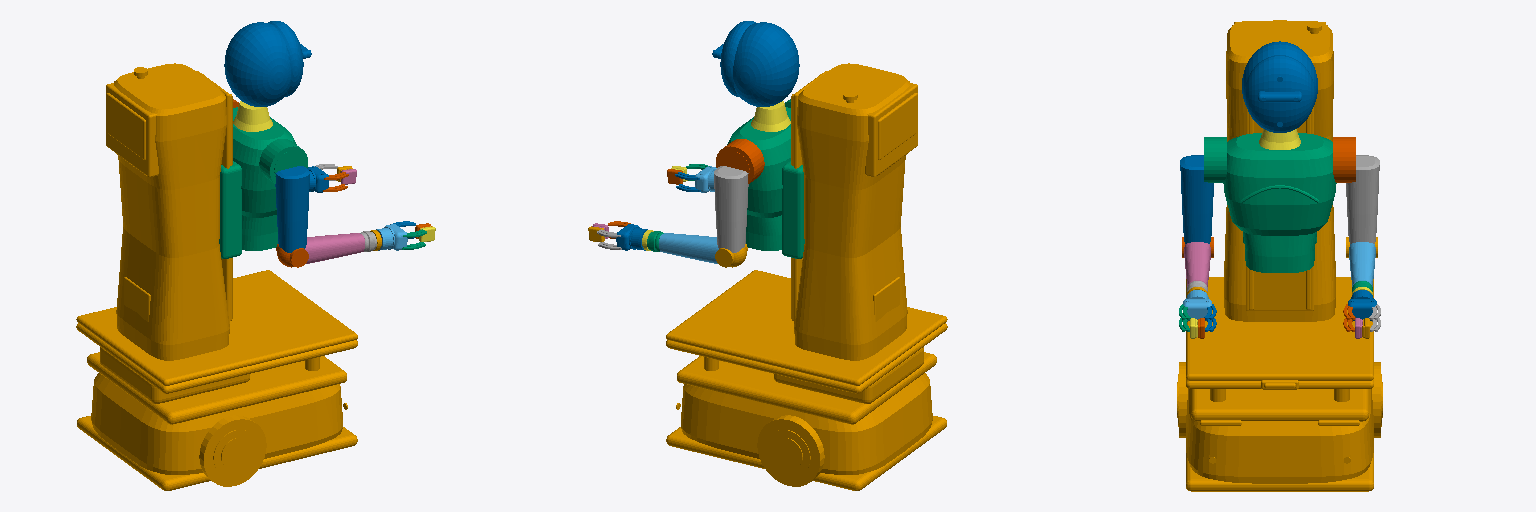
The robot description file, URDF, robot "agibot_g1_omnipicker_independent_visual_study":
<?xml version="1.0"?>
<robot name="agibot_g1_omnipicker_independent_visual_study">
<link name="base_link"><visual ><geometry ><mesh filename="../meshes/base_link.obj"/></geometry></visual><collision ><origin xyz="0 0 0.15" rpy="0 0 0"/><geometry ><box size="0.65 0.52 0.26"/></geometry></collision><collision ><origin xyz="-0.16 0 0.775" rpy="0 0 0"/><geometry ><box size="0.3 0.31 0.8"/></geometry></collision><collision ><origin xyz="0 0 0.356" rpy="0 0 0"/><geometry ><box size="0.65 0.52 0.045"/></geometry></collision></link>
<link name="lift_carriage"></link>
<link name="torso"><visual ><geometry ><mesh filename="../meshes/torso.obj"/></geometry></visual><collision ><origin xyz="0 0 0.235" rpy="0 0 0"/><geometry ><box size="0.19 0.28 0.23"/></geometry></collision><collision ><origin xyz="0 0 0.06" rpy="0 0 0"/><geometry ><box size="0.15 0.18 0.12"/></geometry></collision></link>
<link name="neck"><visual ><geometry ><mesh filename="../meshes/neck.obj"/></geometry></visual></link>
<link name="head"><visual ><geometry ><mesh filename="../meshes/head.obj"/></geometry></visual><collision ><origin xyz="0.02 0 0.125" rpy="0 0 0"/><geometry ><box size="0.17 0.18 0.22"/></geometry></collision></link>
<link name="left_shoulder"><visual ><geometry ><mesh filename="../meshes/left_shoulder.obj"/></geometry></visual></link>
<link name="left_shoulder_roll_frame"></link>
<link name="left_upper_arm"><visual ><geometry ><mesh filename="../meshes/left_upper_arm.obj"/></geometry></visual><collision ><origin xyz="0 0 -0.133" rpy="0 0 0"/><geometry ><cylinder radius="0.046" length="0.235"/></geometry></collision></link>
<link name="left_elbow"><visual ><geometry ><mesh filename="../meshes/left_elbow.obj"/></geometry></visual></link>
<link name="left_forearm"><visual ><geometry ><mesh filename="../meshes/left_forearm.obj"/></geometry></visual><collision ><origin xyz="0 0 -0.118" rpy="0 0 0"/><geometry ><cylinder radius="0.036" length="0.21"/></geometry></collision></link>
<link name="left_wrist"><visual ><geometry ><mesh filename="../meshes/left_wrist.obj"/></geometry></visual></link>
<link name="left_flange"><visual ><geometry ><mesh filename="../meshes/left_flange.obj"/></geometry></visual></link>
<link name="left_gripper"><visual ><geometry ><mesh filename="../meshes/left_gripper.obj"/></geometry></visual><collision ><origin xyz="0 0 -0.0375" rpy="0 0 0"/><geometry ><box size="0.058 0.079 0.075"/></geometry></collision></link>
<link name="left_finger_right_drive"><visual ><geometry ><mesh filename="../meshes/left_finger_right_drive.obj"/></geometry></visual></link>
<link name="left_finger_right"><visual ><geometry ><mesh filename="../meshes/left_finger_right.obj"/></geometry></visual><collision ><origin xyz="0 0.012 -0.024" rpy="0 0 0"/><geometry ><box size="0.043 0.016 0.046"/></geometry></collision></link>
<link name="left_finger_left_drive"><visual ><geometry ><mesh filename="../meshes/left_finger_left_drive.obj"/></geometry></visual></link>
<link name="left_finger_left"><visual ><geometry ><mesh filename="../meshes/left_finger_left.obj"/></geometry></visual><collision ><origin xyz="0 -0.012 -0.024" rpy="0 0 0"/><geometry ><box size="0.043 0.016 0.046"/></geometry></collision></link>
<link name="left_tcp"></link>
<link name="right_shoulder"><visual ><geometry ><mesh filename="../meshes/right_shoulder.obj"/></geometry></visual></link>
<link name="right_shoulder_roll_frame"></link>
<link name="right_upper_arm"><visual ><geometry ><mesh filename="../meshes/right_upper_arm.obj"/></geometry></visual><collision ><origin xyz="0 0 -0.133" rpy="0 0 0"/><geometry ><cylinder radius="0.046" length="0.235"/></geometry></collision></link>
<link name="right_elbow"><visual ><geometry ><mesh filename="../meshes/right_elbow.obj"/></geometry></visual></link>
<link name="right_forearm"><visual ><geometry ><mesh filename="../meshes/right_forearm.obj"/></geometry></visual><collision ><origin xyz="0 0 -0.118" rpy="0 0 0"/><geometry ><cylinder radius="0.036" length="0.21"/></geometry></collision></link>
<link name="right_wrist"><visual ><geometry ><mesh filename="../meshes/right_wrist.obj"/></geometry></visual></link>
<link name="right_flange"><visual ><geometry ><mesh filename="../meshes/right_flange.obj"/></geometry></visual></link>
<link name="right_gripper"><visual ><geometry ><mesh filename="../meshes/right_gripper.obj"/></geometry></visual><collision ><origin xyz="0 0 -0.0375" rpy="0 0 0"/><geometry ><box size="0.058 0.079 0.075"/></geometry></collision></link>
<link name="right_finger_right_drive"><visual ><geometry ><mesh filename="../meshes/right_finger_right_drive.obj"/></geometry></visual></link>
<link name="right_finger_right"><visual ><geometry ><mesh filename="../meshes/right_finger_right.obj"/></geometry></visual><collision ><origin xyz="0 0.012 -0.024" rpy="0 0 0"/><geometry ><box size="0.043 0.016 0.046"/></geometry></collision></link>
<link name="right_finger_left_drive"><visual ><geometry ><mesh filename="../meshes/right_finger_left_drive.obj"/></geometry></visual></link>
<link name="right_finger_left"><visual ><geometry ><mesh filename="../meshes/right_finger_left.obj"/></geometry></visual><collision ><origin xyz="0 -0.012 -0.024" rpy="0 0 0"/><geometry ><box size="0.043 0.016 0.046"/></geometry></collision></link>
<link name="right_tcp"></link>
<joint name="lift" type="prismatic"><parent link="base_link"/><child link="lift_carriage"/><origin xyz="0.12 0 0.63" rpy="0 0 0"/><axis xyz="0 0 1"/><limit lower="0" upper="0.5" effort="1" velocity="1"/></joint>
<joint name="waist_pitch" type="revolute"><parent link="lift_carriage"/><child link="torso"/><origin xyz="0 0 0" rpy="0 0 0"/><axis xyz="0 1 0"/><limit lower="-0.15" upper="0.35" effort="1" velocity="1"/></joint>
<joint name="head_yaw" type="revolute"><parent link="torso"/><child link="neck"/><origin xyz="0 0 0.355" rpy="0 0 0"/><axis xyz="0 0 1"/><limit lower="-0.75" upper="0.75" effort="1" velocity="1"/></joint>
<joint name="head_pitch" type="revolute"><parent link="neck"/><child link="head"/><origin xyz="0.025 0 0.061" rpy="0 0 0"/><axis xyz="0 1 0"/><limit lower="-0.3" upper="0.3" effort="1" velocity="1"/></joint>
<joint name="left_shoulder_pitch" type="revolute"><parent link="torso"/><child link="left_shoulder"/><origin xyz="0 0.177 0.307" rpy="0 0 0"/><axis xyz="0 1 0"/><limit lower="-1.6" upper="1.6" effort="1" velocity="1"/></joint>
<joint name="left_shoulder_roll" type="revolute"><parent link="left_shoulder"/><child link="left_shoulder_roll_frame"/><origin xyz="0 0.05 0" rpy="0 0 0"/><axis xyz="1 0 0"/><limit lower="-1.4" upper="1.4" effort="1" velocity="1"/></joint>
<joint name="left_upper_twist" type="revolute"><parent link="left_shoulder_roll_frame"/><child link="left_upper_arm"/><origin xyz="0 0 0" rpy="0 0 0"/><axis xyz="0 0 1"/><limit lower="-1.5" upper="1.5" effort="1" velocity="1"/></joint>
<joint name="left_elbow" type="revolute"><parent link="left_upper_arm"/><child link="left_elbow"/><origin xyz="0 0 -0.265" rpy="0 -1.48 0"/><axis xyz="0 1 0"/><limit lower="-0.17" upper="1.58" effort="1" velocity="1"/></joint>
<joint name="left_forearm_twist" type="revolute"><parent link="left_elbow"/><child link="left_forearm"/><origin xyz="0 0 0" rpy="0 0 0"/><axis xyz="0 0 1"/><limit lower="-1.5" upper="1.5" effort="1" velocity="1"/></joint>
<joint name="left_wrist_pitch" type="revolute"><parent link="left_forearm"/><child link="left_wrist"/><origin xyz="0 0 -0.235" rpy="0 0 0"/><axis xyz="0 1 0"/><limit lower="-0.65" upper="0.65" effort="1" velocity="1"/></joint>
<joint name="left_wrist_roll" type="revolute"><parent link="left_wrist"/><child link="left_flange"/><origin xyz="0 0 -0.032" rpy="0 0 0"/><axis xyz="0 0 1"/><limit lower="-1.5" upper="1.5" effort="1" velocity="1"/></joint>
<joint name="left_hand_mount" type="fixed"><parent link="left_flange"/><child link="left_gripper"/><origin xyz="0 0 -0.018" rpy="0 0 0"/></joint>
<joint name="left_gripper_mimic" type="revolute"><parent link="left_gripper"/><child link="left_finger_right_drive"/><origin xyz="0 -0.025 -0.065" rpy="0 0 0"/><axis xyz="-1 0 0"/><limit lower="0" upper="1.0296968008377505" effort="1" velocity="1"/><mimic joint="left_gripper_open" multiplier="1" offset="0"/></joint>
<joint name="left_finger_right_parallel" type="revolute"><parent link="left_finger_right_drive"/><child link="left_finger_right"/><origin xyz="0 0 -0.07" rpy="0 0 0"/><axis xyz="-1 0 0"/><limit lower="-1.0296968008377505" upper="0" effort="1" velocity="1"/><mimic joint="left_gripper_open" multiplier="-1" offset="0"/></joint>
<joint name="left_gripper_open" type="revolute"><parent link="left_gripper"/><child link="left_finger_left_drive"/><origin xyz="0 0.025 -0.065" rpy="0 0 0"/><axis xyz="1 0 0"/><limit lower="0" upper="1.0296968008377505" effort="1" velocity="1"/></joint>
<joint name="left_finger_left_parallel" type="revolute"><parent link="left_finger_left_drive"/><child link="left_finger_left"/><origin xyz="0 0 -0.07" rpy="0 0 0"/><axis xyz="1 0 0"/><limit lower="-1.0296968008377505" upper="0" effort="1" velocity="1"/><mimic joint="left_gripper_open" multiplier="-1" offset="0"/></joint>
<joint name="left_tcp_fixed" type="fixed"><parent link="left_gripper"/><child link="left_tcp"/><origin xyz="0 0 -0.15" rpy="0 0 0"/></joint>
<joint name="right_shoulder_pitch" type="revolute"><parent link="torso"/><child link="right_shoulder"/><origin xyz="0 -0.177 0.307" rpy="0 0 0"/><axis xyz="0 1 0"/><limit lower="-1.6" upper="1.6" effort="1" velocity="1"/></joint>
<joint name="right_shoulder_roll" type="revolute"><parent link="right_shoulder"/><child link="right_shoulder_roll_frame"/><origin xyz="0 -0.05 0" rpy="0 0 0"/><axis xyz="1 0 0"/><limit lower="-1.4" upper="1.4" effort="1" velocity="1"/></joint>
<joint name="right_upper_twist" type="revolute"><parent link="right_shoulder_roll_frame"/><child link="right_upper_arm"/><origin xyz="0 0 0" rpy="0 0 0"/><axis xyz="0 0 1"/><limit lower="-1.5" upper="1.5" effort="1" velocity="1"/></joint>
<joint name="right_elbow" type="revolute"><parent link="right_upper_arm"/><child link="right_elbow"/><origin xyz="0 0 -0.265" rpy="0 -1.48 0"/><axis xyz="0 1 0"/><limit lower="-0.17" upper="1.58" effort="1" velocity="1"/></joint>
<joint name="right_forearm_twist" type="revolute"><parent link="right_elbow"/><child link="right_forearm"/><origin xyz="0 0 0" rpy="0 0 0"/><axis xyz="0 0 1"/><limit lower="-1.5" upper="1.5" effort="1" velocity="1"/></joint>
<joint name="right_wrist_pitch" type="revolute"><parent link="right_forearm"/><child link="right_wrist"/><origin xyz="0 0 -0.235" rpy="0 0 0"/><axis xyz="0 1 0"/><limit lower="-0.65" upper="0.65" effort="1" velocity="1"/></joint>
<joint name="right_wrist_roll" type="revolute"><parent link="right_wrist"/><child link="right_flange"/><origin xyz="0 0 -0.032" rpy="0 0 0"/><axis xyz="0 0 1"/><limit lower="-1.5" upper="1.5" effort="1" velocity="1"/></joint>
<joint name="right_hand_mount" type="fixed"><parent link="right_flange"/><child link="right_gripper"/><origin xyz="0 0 -0.018" rpy="0 0 0"/></joint>
<joint name="right_gripper_mimic" type="revolute"><parent link="right_gripper"/><child link="right_finger_right_drive"/><origin xyz="0 -0.025 -0.065" rpy="0 0 0"/><axis xyz="-1 0 0"/><limit lower="0" upper="1.0296968008377505" effort="1" velocity="1"/><mimic joint="right_gripper_open" multiplier="1" offset="0"/></joint>
<joint name="right_finger_right_parallel" type="revolute"><parent link="right_finger_right_drive"/><child link="right_finger_right"/><origin xyz="0 0 -0.07" rpy="0 0 0"/><axis xyz="-1 0 0"/><limit lower="-1.0296968008377505" upper="0" effort="1" velocity="1"/><mimic joint="right_gripper_open" multiplier="-1" offset="0"/></joint>
<joint name="right_gripper_open" type="revolute"><parent link="right_gripper"/><child link="right_finger_left_drive"/><origin xyz="0 0.025 -0.065" rpy="0 0 0"/><axis xyz="1 0 0"/><limit lower="0" upper="1.0296968008377505" effort="1" velocity="1"/></joint>
<joint name="right_finger_left_parallel" type="revolute"><parent link="right_finger_left_drive"/><child link="right_finger_left"/><origin xyz="0 0 -0.07" rpy="0 0 0"/><axis xyz="1 0 0"/><limit lower="-1.0296968008377505" upper="0" effort="1" velocity="1"/><mimic joint="right_gripper_open" multiplier="-1" offset="0"/></joint>
<joint name="right_tcp_fixed" type="fixed"><parent link="right_gripper"/><child link="right_tcp"/><origin xyz="0 0 -0.15" rpy="0 0 0"/></joint>
</robot>

--- What the picture shows (computed from the rendered views, not written in the file) ---
Views: 3 orthographic renders of the robot side by side, from view 1: azimuth 30°, elevation 25°; view 2: azimuth 150°, elevation 25°; view 3: azimuth 270°, elevation 25°.
Model agibot_g1_omnipicker_independent_visual_study with 31 links and 30 joints (25 revolute, 1 prismatic, 4 fixed), rooted at base_link, posed every joint at zero.
Links seen in each view (by area): view 1: base_link, torso, head, right_upper_arm, right_forearm, right_shoulder, neck, right_gripper; view 2: base_link, torso, head, left_upper_arm, left_forearm, left_shoulder, neck, left_gripper; view 3: base_link, torso, head, left_upper_arm, right_upper_arm, left_shoulder, right_shoulder, left_forearm, right_forearm, neck, left_gripper, right_gripper.
Link boxes in pixels (box(x1,y1,x2,y2)): base_link: box(76, 63, 357, 490); torso: box(219, 107, 296, 258); head: box(224, 21, 311, 106); right_upper_arm: box(275, 166, 309, 252); right_forearm: box(305, 233, 364, 263); right_shoulder: box(259, 139, 307, 183); neck: box(233, 101, 272, 131); right_gripper: box(376, 224, 407, 250); base_link: box(666, 63, 947, 490); torso: box(727, 107, 804, 258); head: box(712, 21, 799, 106); left_upper_arm: box(714, 166, 748, 252); left_forearm: box(659, 233, 718, 263); left_shoulder: box(716, 139, 764, 183); neck: box(751, 101, 790, 131); left_gripper: box(616, 224, 647, 250); base_link: box(1177, 20, 1382, 491); torso: box(1223, 133, 1336, 272); head: box(1242, 41, 1317, 132); left_upper_arm: box(1346, 155, 1379, 243); right_upper_arm: box(1180, 155, 1213, 243); left_shoulder: box(1333, 137, 1355, 182); right_shoulder: box(1204, 137, 1226, 182); left_forearm: box(1349, 242, 1375, 286); right_forearm: box(1184, 242, 1210, 286); neck: box(1259, 129, 1300, 149); left_gripper: box(1348, 290, 1376, 320); right_gripper: box(1183, 290, 1211, 320).
Size in the robot's own frame: 0.9121 by 0.566 by 1.3 metres.
26 mesh visuals loaded from 26 distinct referenced files (26 OBJ).
